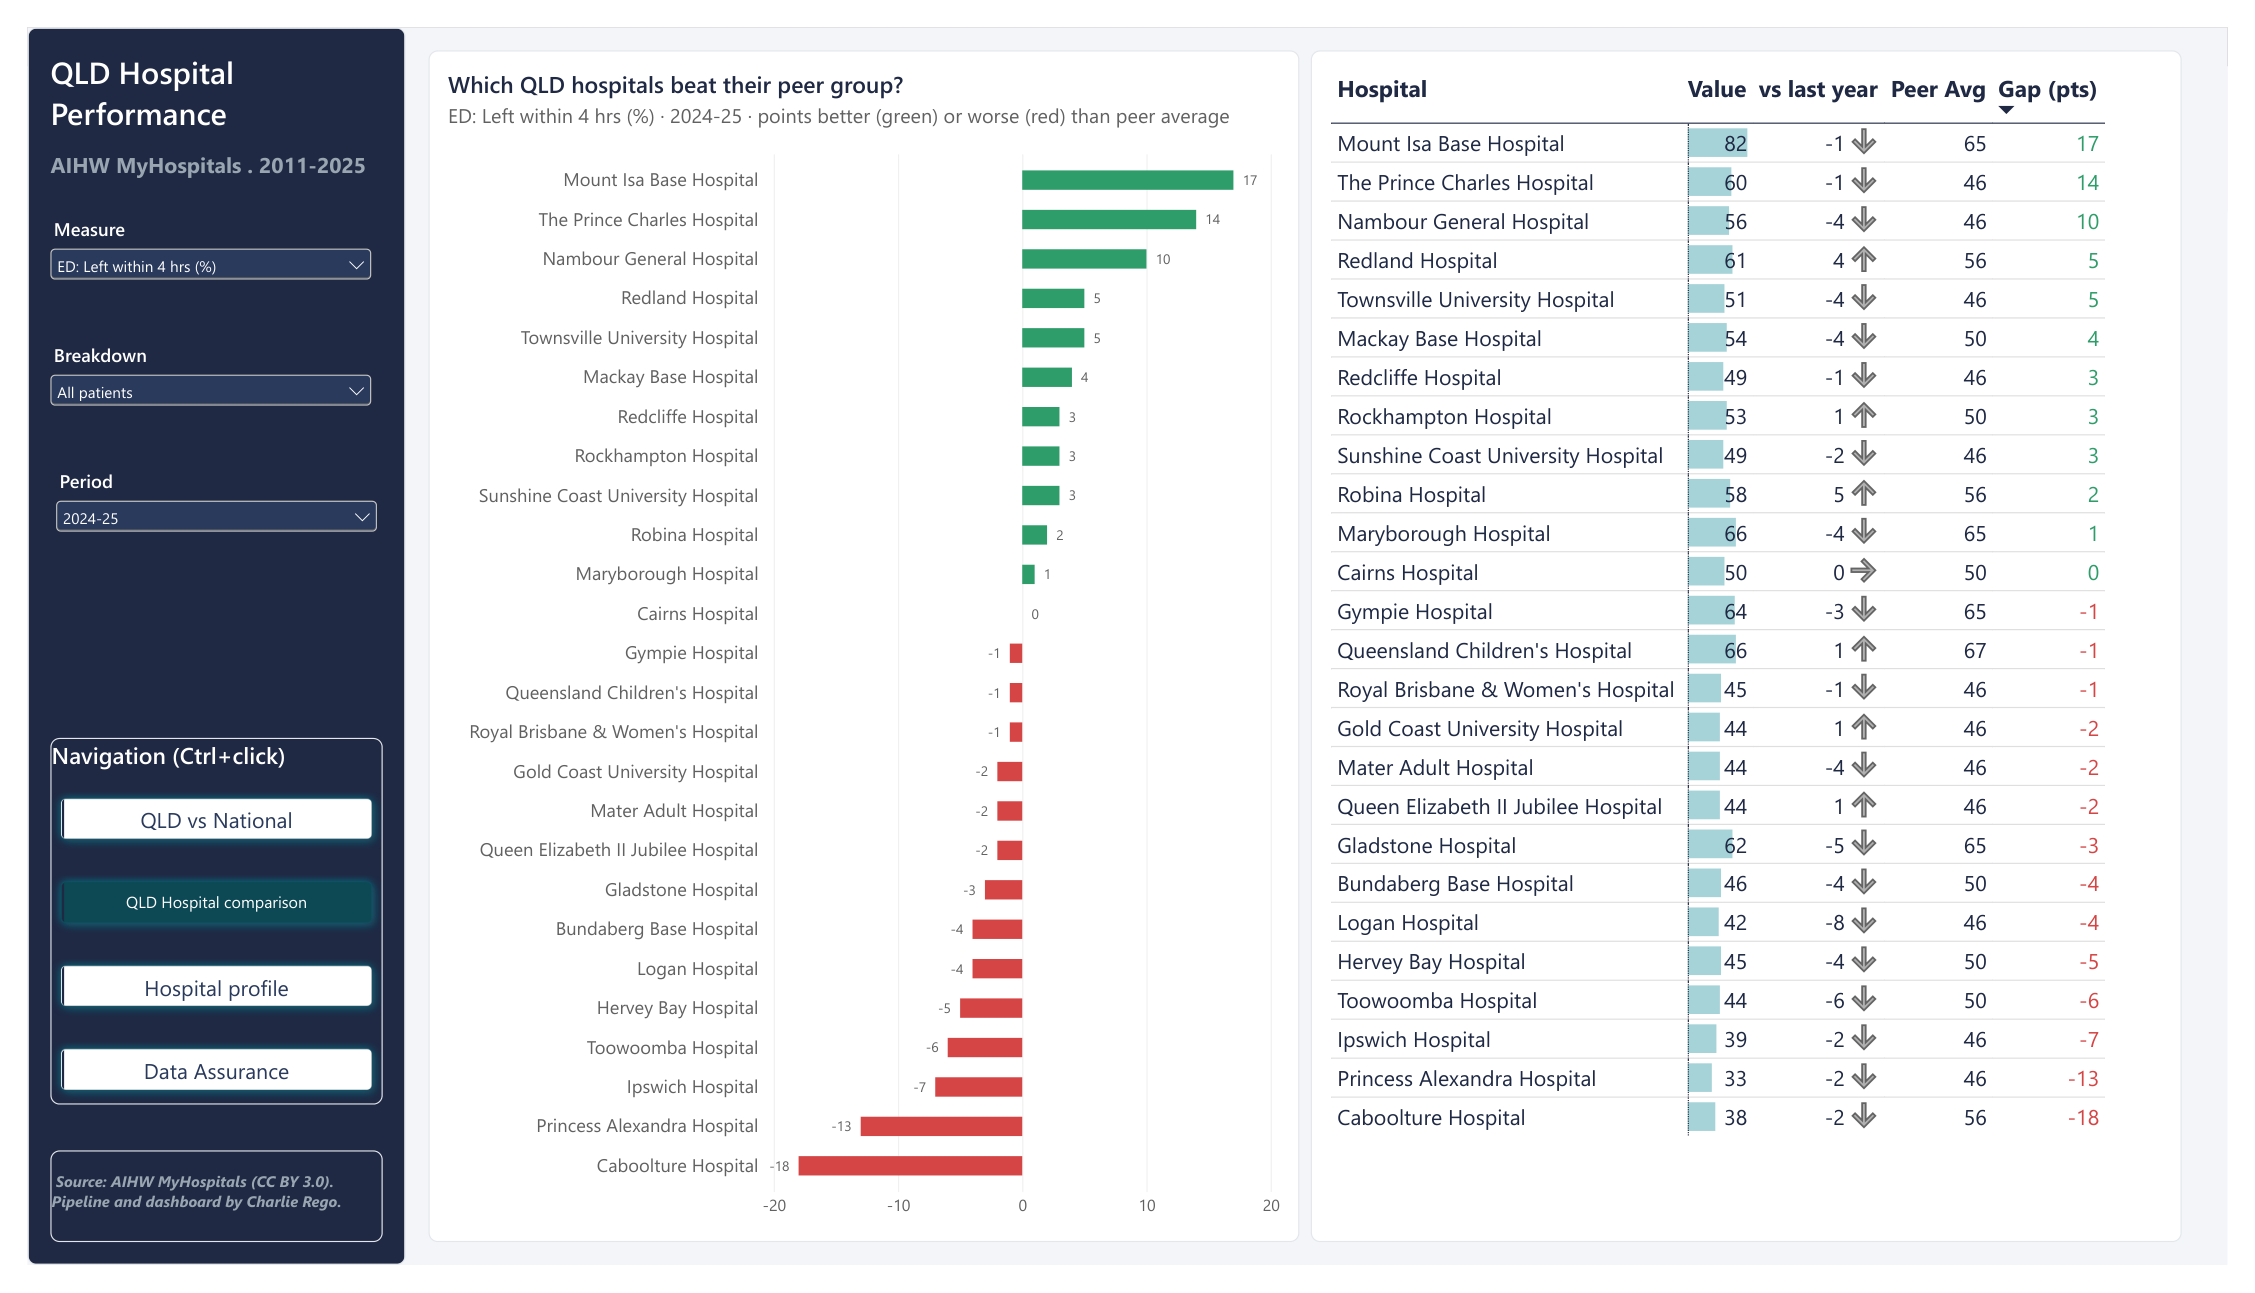

What the dashboard file says about the page in this screenshot:
{"tool":"powerbi","page":{"name":"QLD Hospital comparison","canvas":[1920,1080],"ordinal":1},"visuals":[{"type":"shape","box":[0,0,330,1080],"z":0},{"type":"slicer","fields":{"Values":["dim_measure.Measure Short Name"]},"box":[15,165,290,90],"z":1000},{"type":"slicer","fields":{"Values":["dim_measure.reported_measure_name"]},"box":[15,275,290,90],"z":2000},{"type":"textbox","title":"QLD Hospital Performance","box":[20,20,290,120],"z":3000},{"type":"slicer","title":"Period","fields":{"Values":["fct_hospital_measure.period_label"]},"box":[20,385,290,90],"z":4000},{"type":"clusteredBarChart","title":"Which QLD hospitals beat their peer group?","fields":{"Category":["dim_reporting_unit.reporting_unit_name"],"Y":["dim_measure.Performance vs Peer"]},"box":[350,20,760,1040],"z":5000},{"type":"tableEx","fields":{"Values":["dim_reporting_unit.reporting_unit_name","dim_measure.Reporting Unit Value","dim_measure.Change vs Previous Period","dim_measure.Peer Group Value","dim_measure.Gap to Peer"]},"box":[1120,20,760,1040],"z":6000},{"type":"pageNavigator","title":"Navigation (Ctrl+click)","box":[20,620,290,320],"z":6001},{"type":"textbox","box":[20,980,290,80],"z":6002}]}

Visuals, with their boxes in screenshot pixels (x1, y1, x2, y2), scaled from the page's 1920x1080 canvas onto the 2255x1293 screenshot:
shape: {"left": 0, "top": 0, "right": 388, "bottom": 1292}
slicer - dim_measure.Measure Short Name: {"left": 18, "top": 198, "right": 358, "bottom": 305}
slicer - dim_measure.reported_measure_name: {"left": 18, "top": 329, "right": 358, "bottom": 437}
"QLD Hospital Performance" textbox: {"left": 23, "top": 24, "right": 364, "bottom": 168}
"Period" slicer: {"left": 23, "top": 461, "right": 364, "bottom": 569}
"Which QLD hospitals beat their peer group?" clusteredBarChart: {"left": 411, "top": 24, "right": 1304, "bottom": 1269}
tableEx - dim_reporting_unit.reporting_unit_name x dim_measure.Reporting Unit Value: {"left": 1315, "top": 24, "right": 2208, "bottom": 1269}
"Navigation (Ctrl+click)" pageNavigator: {"left": 23, "top": 742, "right": 364, "bottom": 1125}
textbox: {"left": 23, "top": 1173, "right": 364, "bottom": 1269}
